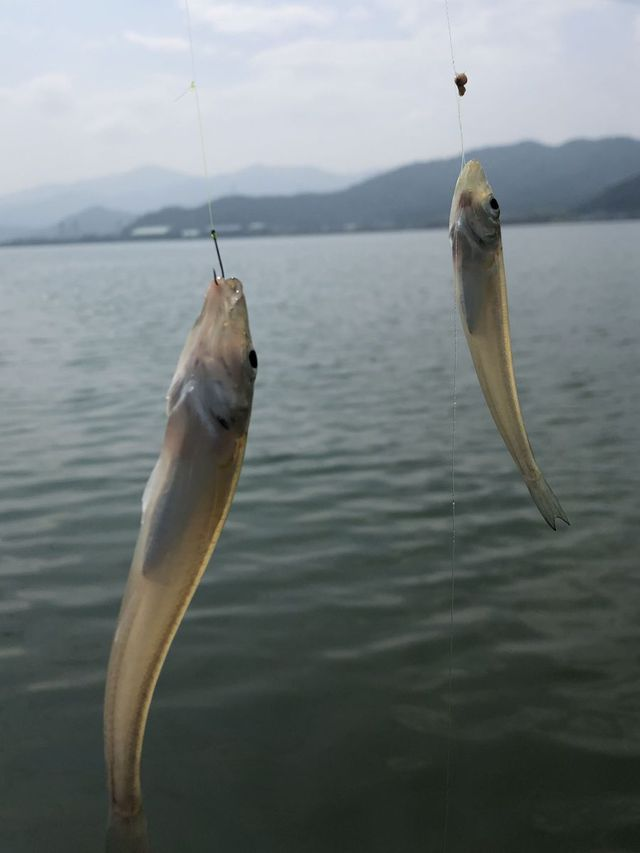kiss: (90, 272, 277, 840), (436, 153, 581, 530)
